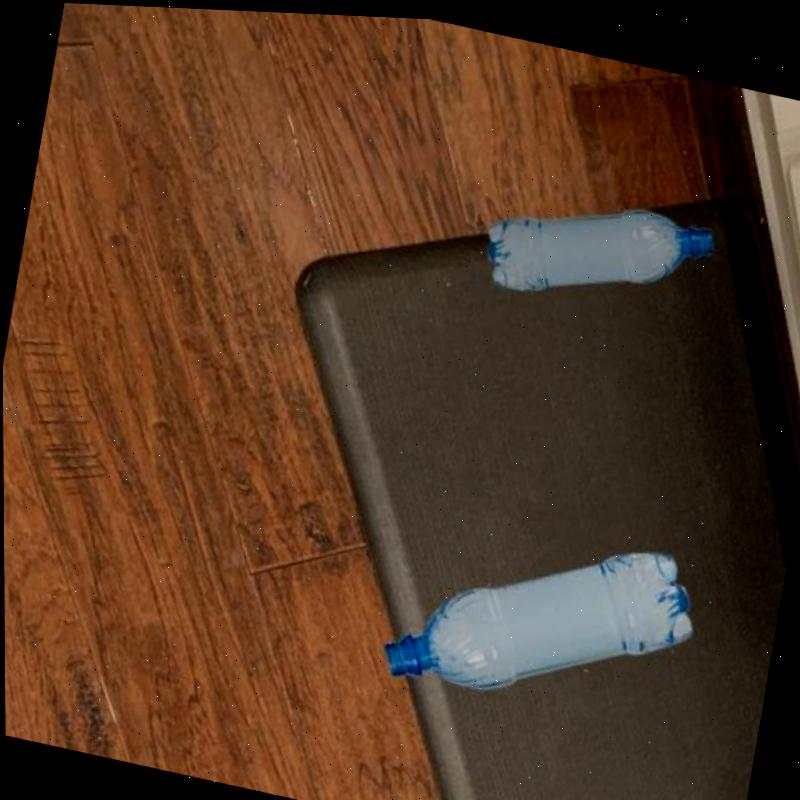botella: (377, 490, 704, 730), (472, 164, 721, 329)
